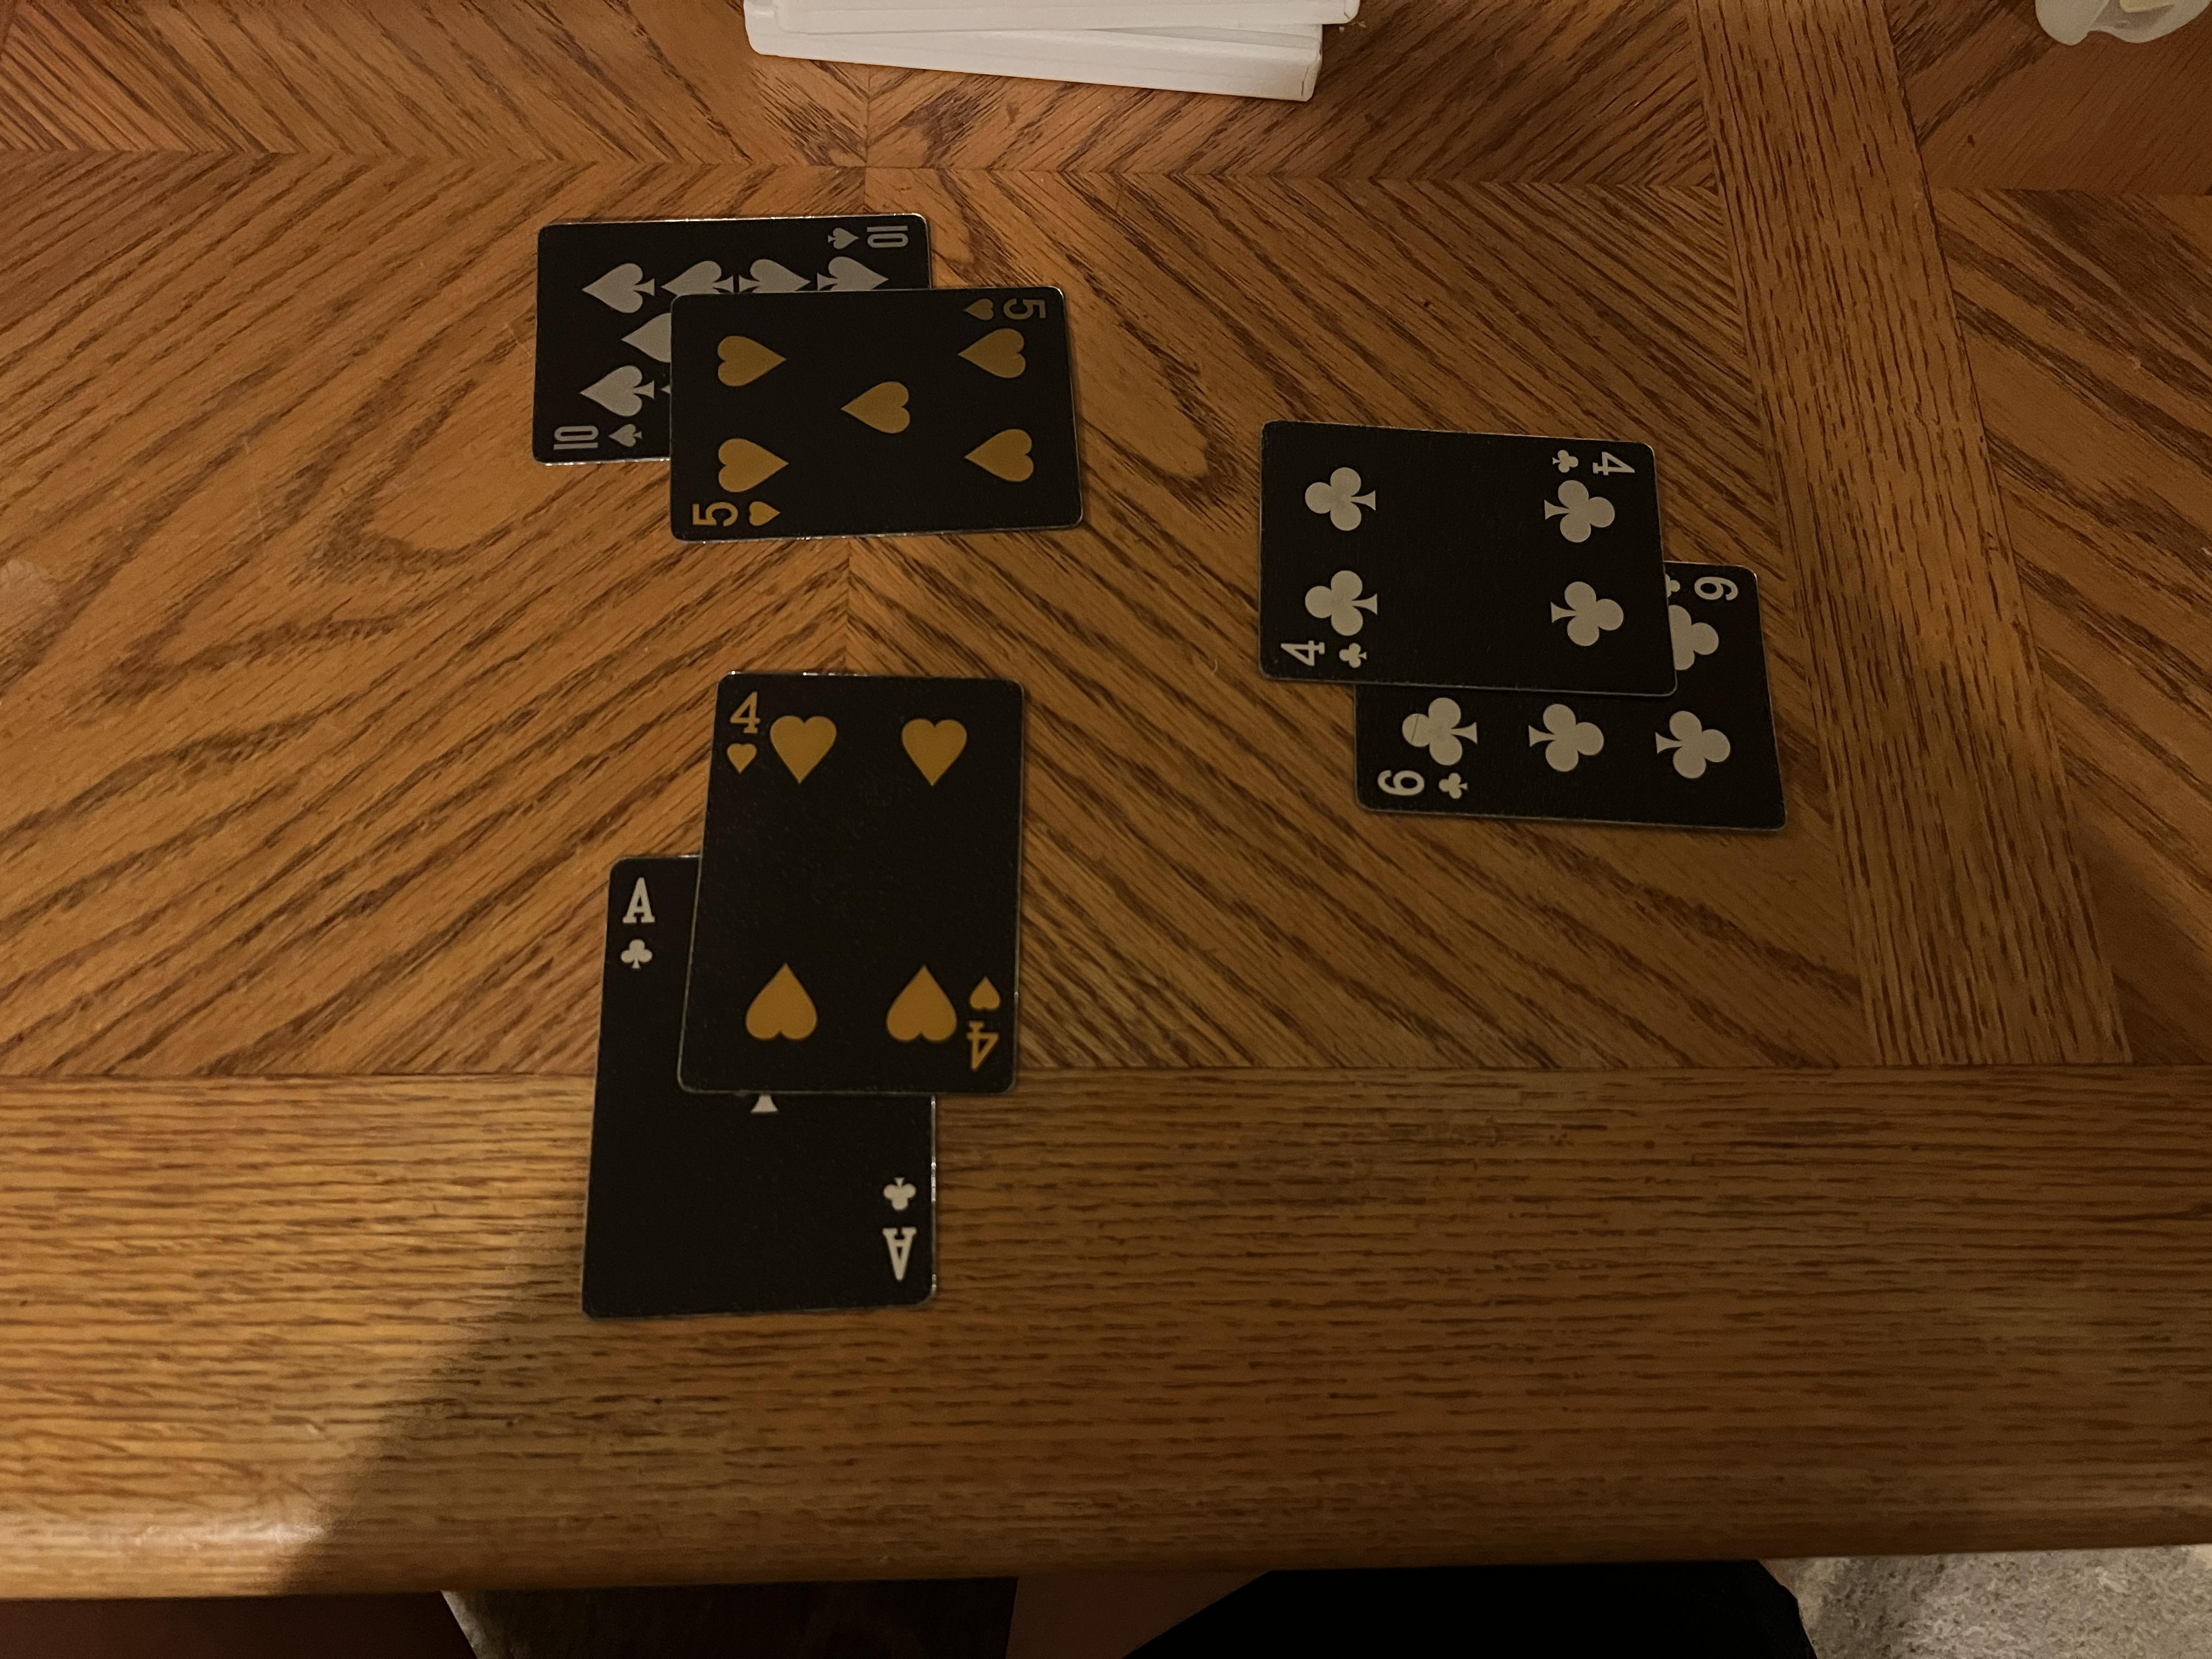10S: (1609, 410, 1663, 484), (1876, 620, 1918, 688)
4C: (1320, 951, 1366, 1033), (1578, 1161, 1620, 1230)
4H: (765, 706, 928, 753), (1176, 535, 1329, 575)
5H: (1501, 509, 1555, 594), (1777, 718, 1815, 795)
6C: (1143, 1026, 1190, 1107), (1411, 1248, 1451, 1310)
AC: (488, 657, 674, 695), (914, 455, 1052, 502)
